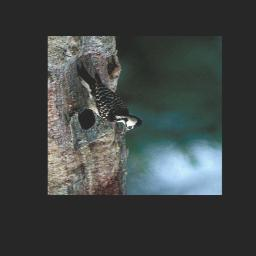Woodpecker: (77, 61, 143, 135)
